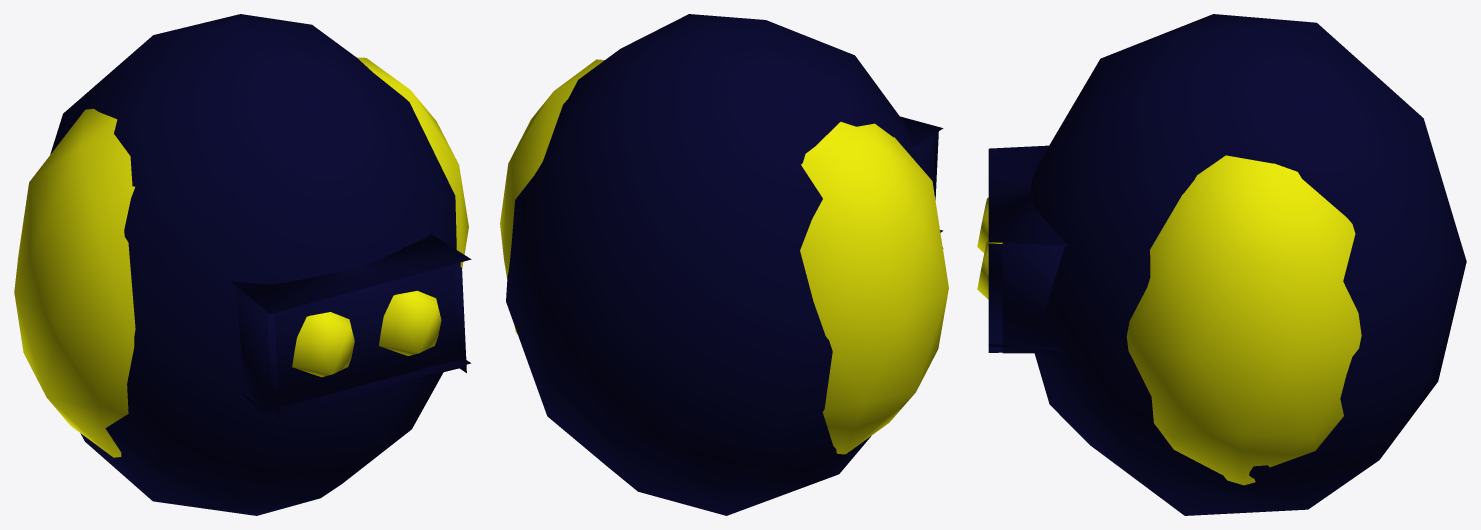
The model's file is faceman head2.dae.
The picture shows the model from 3 angles, left to right: view 1: azimuth 30°, elevation 25°; view 2: azimuth 150°, elevation 25°; view 3: azimuth 270°, elevation 25°; orthographic projection.
Parts seen in each view (by area): view 1: Sphere; view 2: Sphere; view 3: Sphere.
Part boxes in pixels (x1,y1,x2,y2): Sphere: (14,14,471,515); Sphere: (500,14,948,515); Sphere: (977,14,1466,515).
Size of the model in its own units: 0.1744 by 0.1788 by 0.1925.
1 material, 1 textured.
